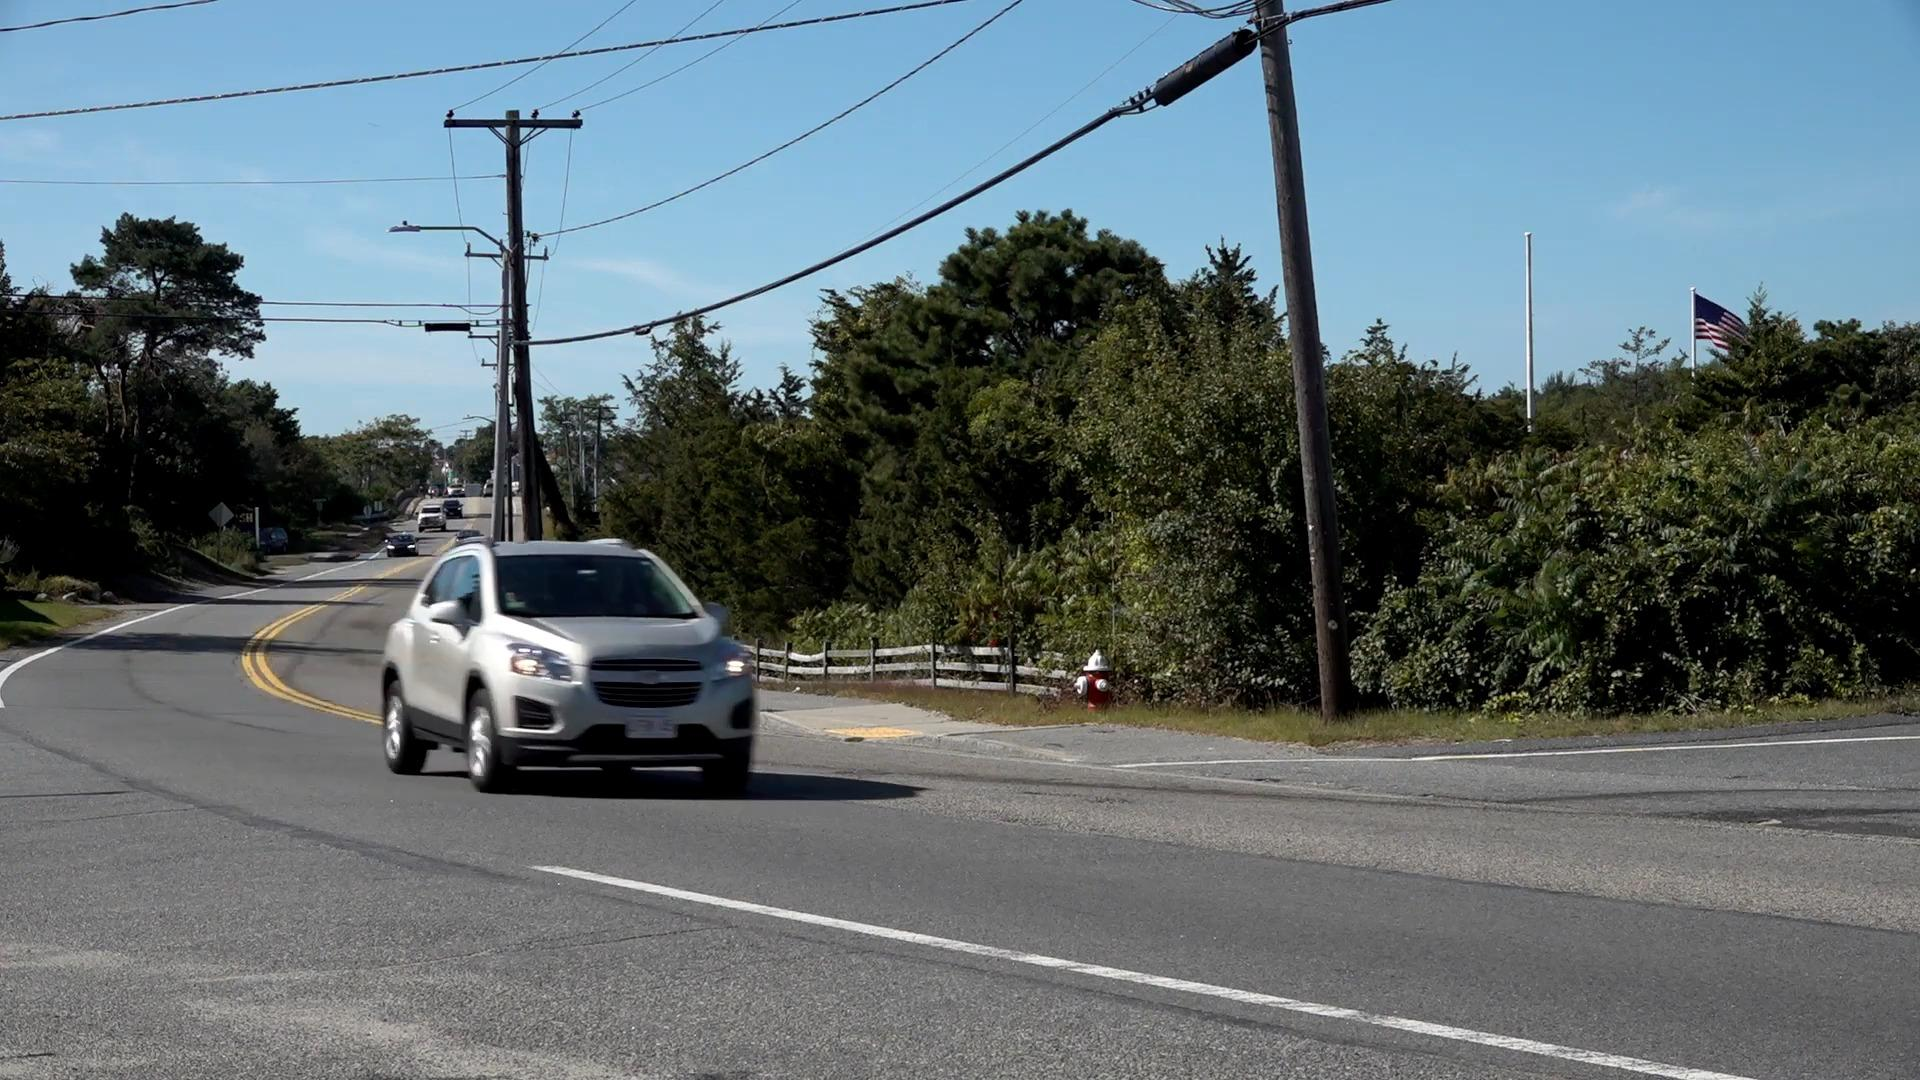suv: (384, 534, 758, 791)
